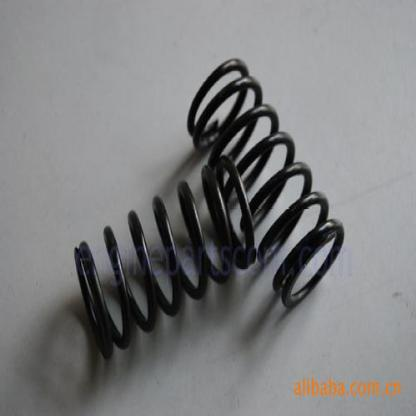FOD: (186, 51, 347, 314), (69, 150, 259, 366)
